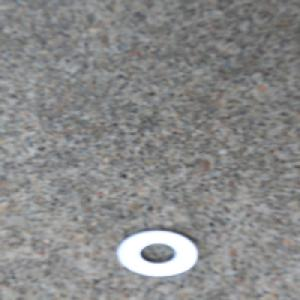Washer: (113, 227, 200, 278)
